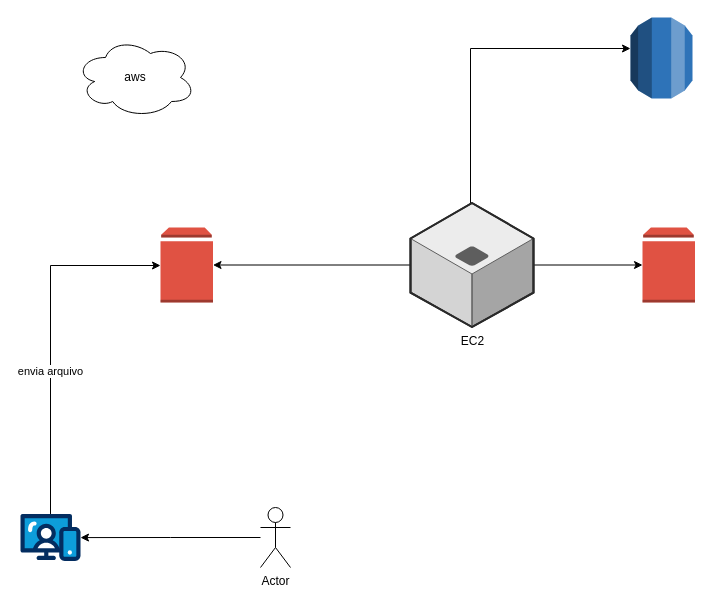
Some shapes in this 712 by 606 pixel diagram are drawn without their labels. The centre of each missing label's shape, as x and y in pixels:
"D-EBS" belongs at [186,264].
"E-EBS" belongs at [668,264].
